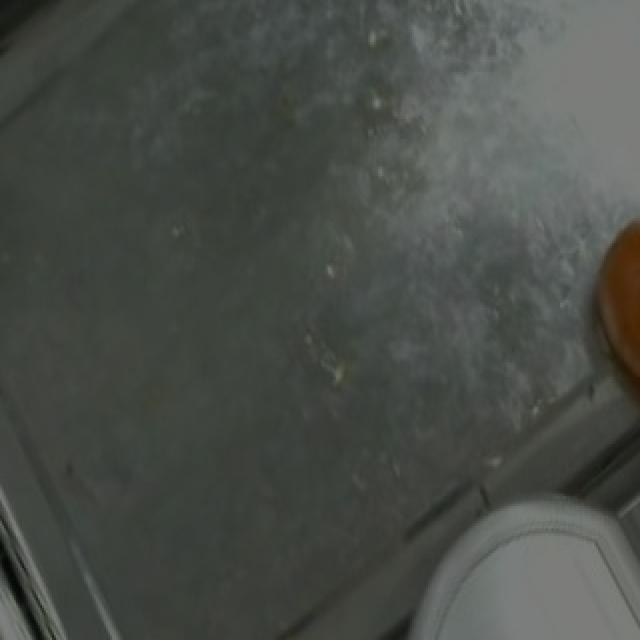Fruit: (416, 501, 640, 640), (574, 193, 640, 412)
